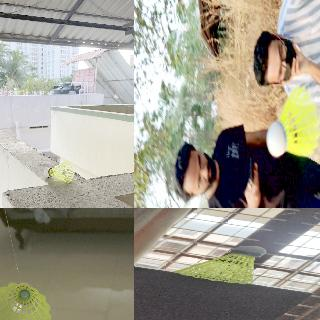shuttlecock: (265, 86, 319, 160), (172, 245, 265, 284), (0, 282, 51, 319), (44, 160, 72, 182)
